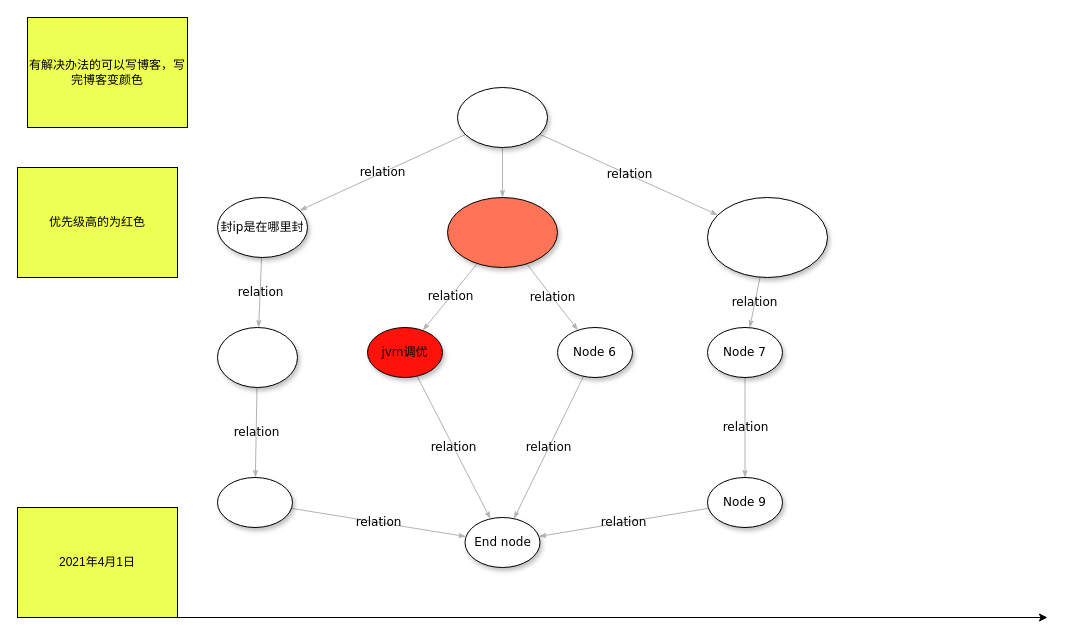
This 1073x643 diagram has some shape labels left out. The centre of each missing label's shape, as x and y in pixels:
AB 压测: the point at 503,118
Node 8: the point at 255,503
spring的逻辑很重要，nginx后优先看: the point at 503,233
SQL注入：select SLEEP(5): the point at 258,358
测试:nginxalias/root配置访问数据访问静态页面: the point at 768,238
